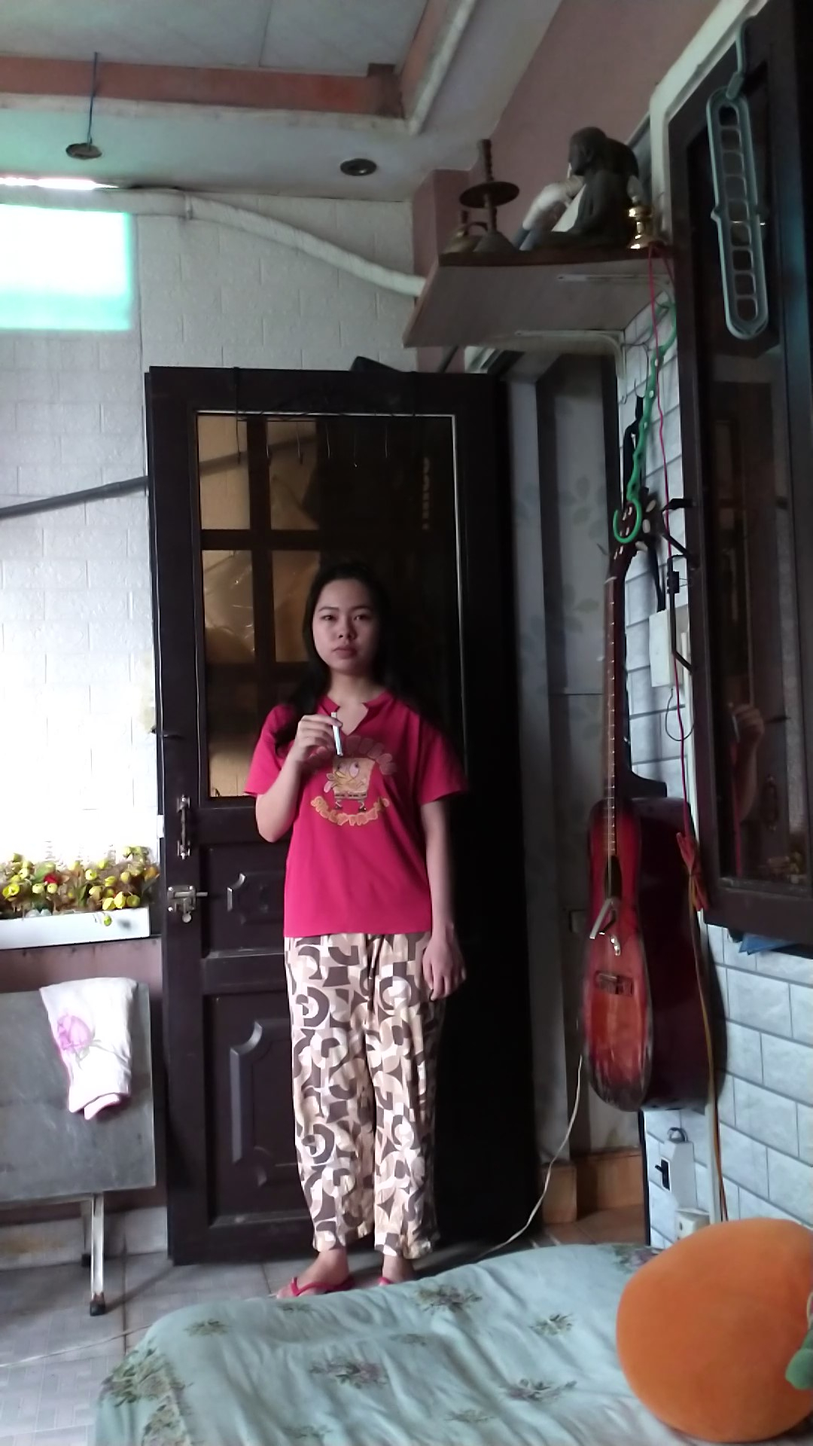cigarette: (330, 721, 348, 761)
person: (248, 511, 473, 1308)
